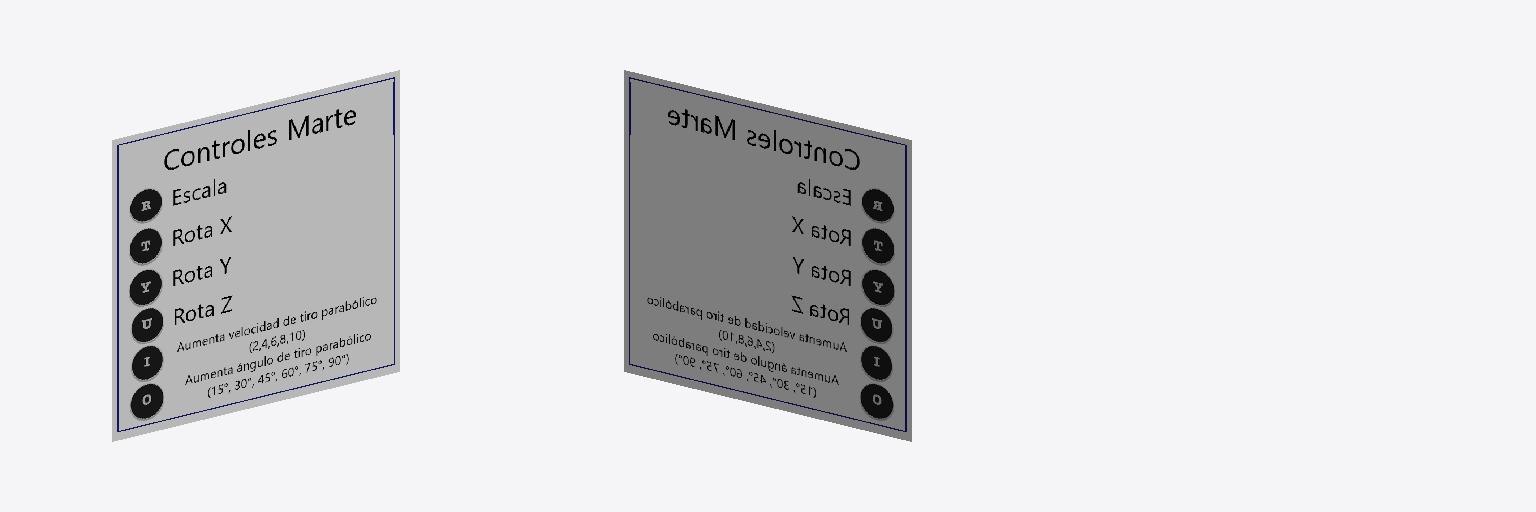
3 views of the same model, side by side, from view 1: azimuth 30°, elevation 25°; view 2: azimuth 150°, elevation 25°; view 3: azimuth 270°, elevation 25° (orthographic).
Parts seen in each view (by area): view 1: pPlane1; view 2: pPlane1; view 3: none.
Boxes of the visible parts, <box> form: pPlane1: <box>112,70,399,441</box>; pPlane1: <box>624,70,911,441</box>.
Bounding box in the file's own units: 2.5 × 2.5 × 0.
1 materials, 1 textured.